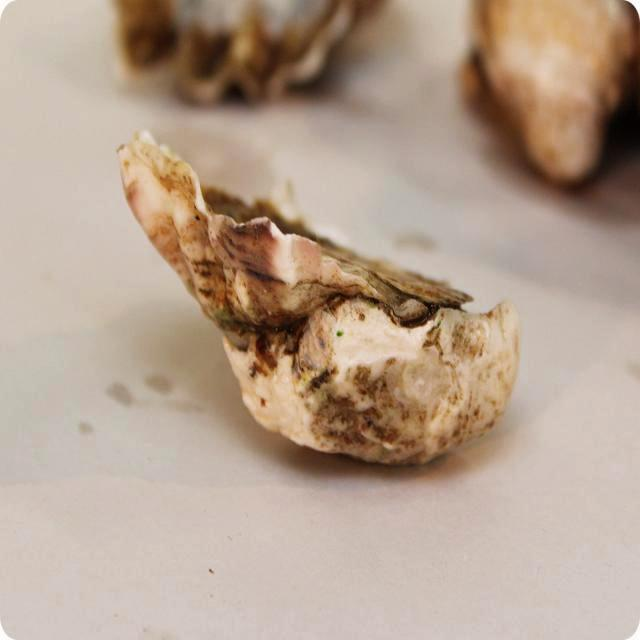Oyster-Closed: (118, 132, 519, 463), (462, 0, 639, 186), (116, 0, 378, 104)
